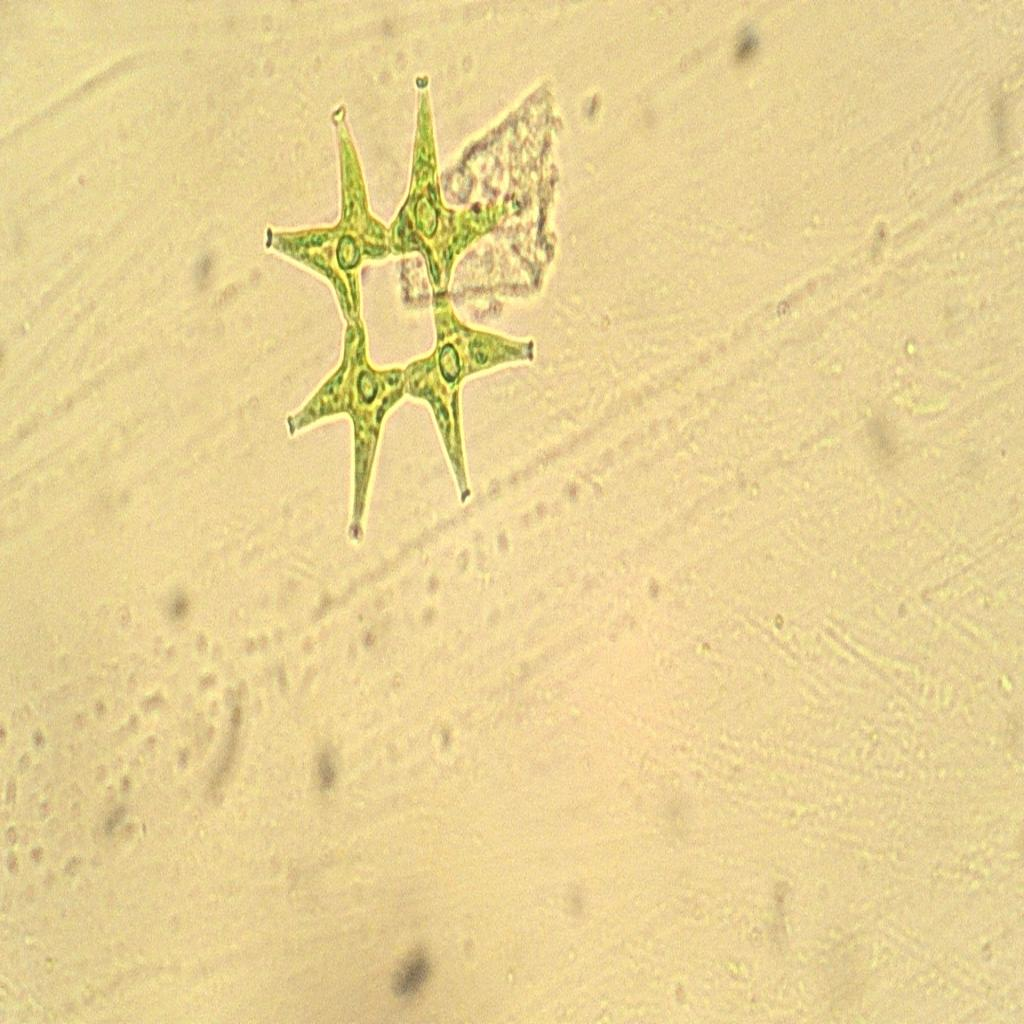Pediastrum_CO: (248, 50, 552, 554)
